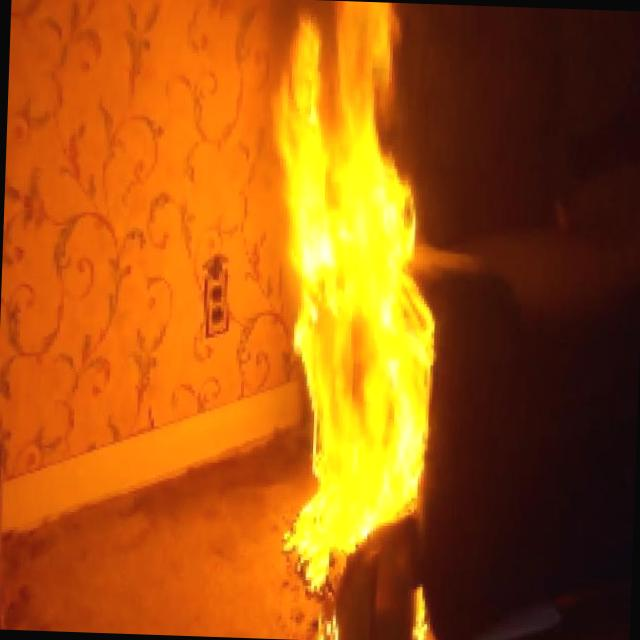fire: (249, 2, 452, 560)
